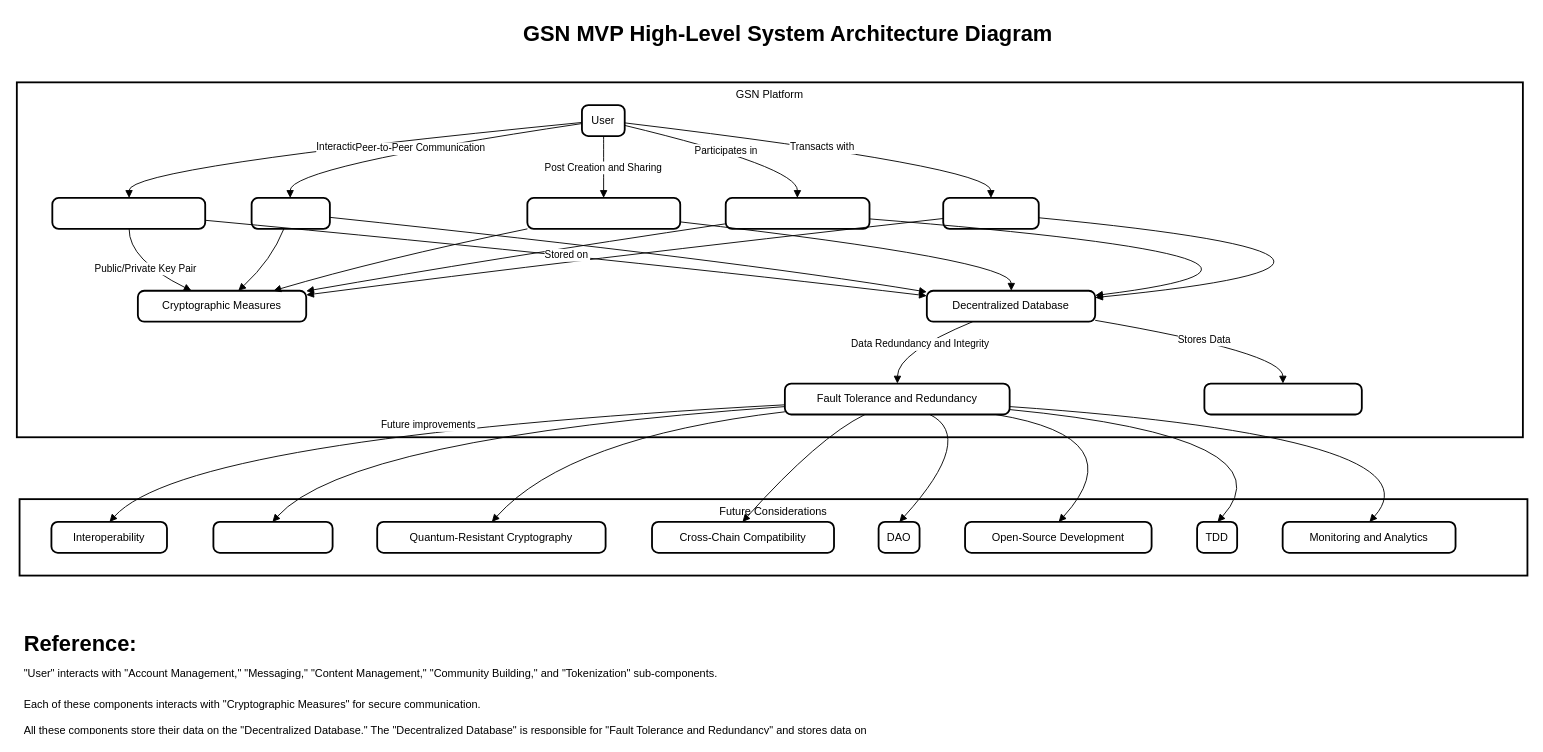
Image size: 1543x752. Some labels were removed from this diagram. The centre of each missing label's shape, as x and y in pixels:
"Account Management" goes at pixel 128 213.
"Community Building" goes at pixel 797 213.
"Content Management" goes at pixel 603 213.
"Decentralized Storage" goes at pixel 1282 398.
"Edge Computing" goes at pixel 272 537.
"Messaging" goes at pixel 290 213.
"Tokenization" goes at pixel 990 213.
